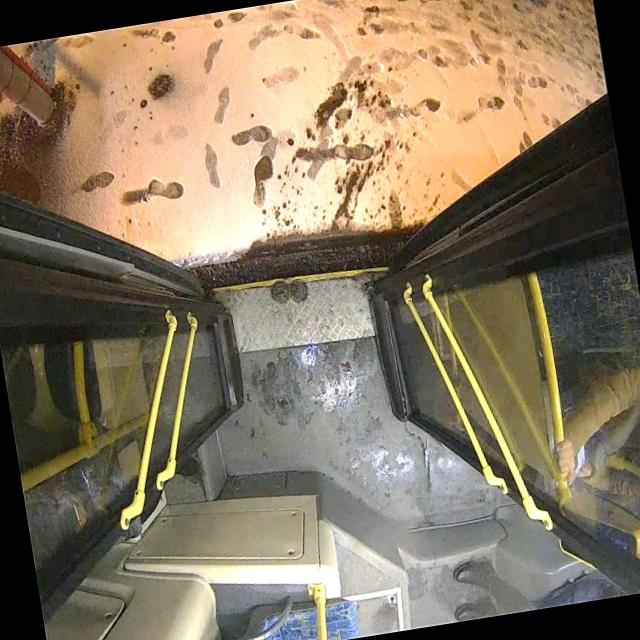bus-door: (369, 96, 640, 589), (0, 193, 244, 596)
